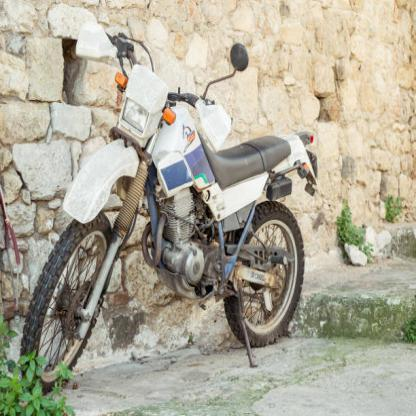Motorcycle: (12, 13, 321, 393)
